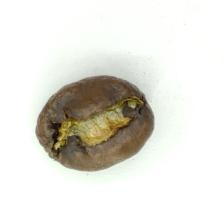NG: (47, 97, 147, 155)
